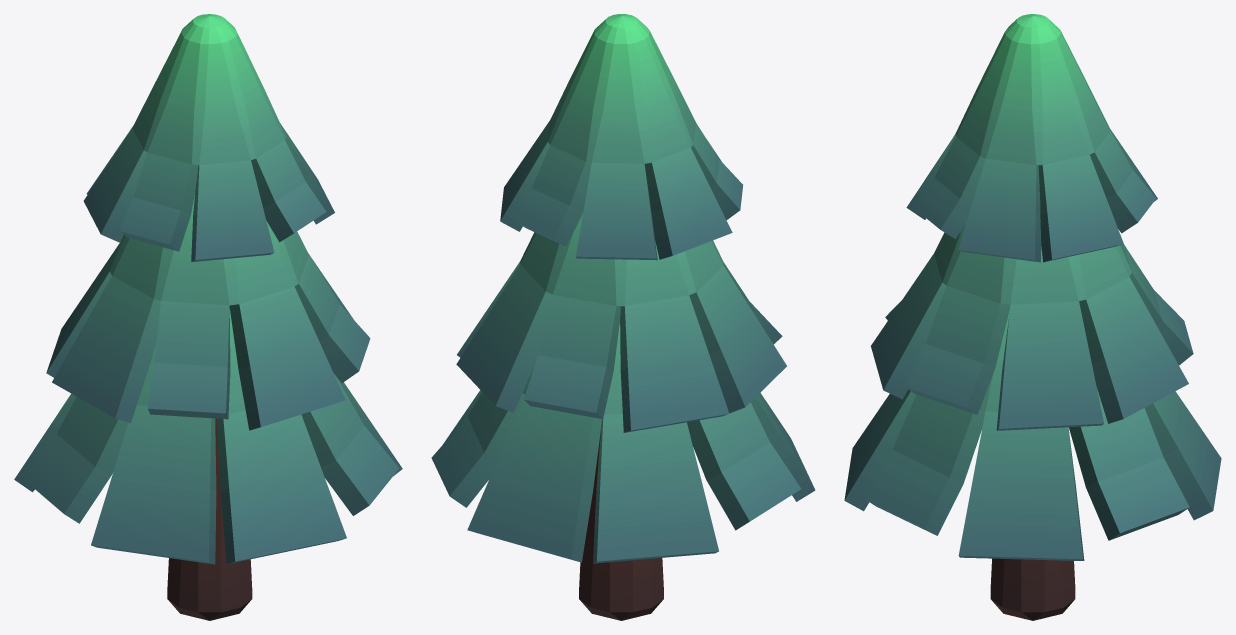
The model's file is kuusi2.fbx.
3 renders of one model, left to right at view 1: azimuth 30°, elevation 25°; view 2: azimuth 150°, elevation 25°; view 3: azimuth 270°, elevation 25°, orthographic.
Parts seen in each view (by area): view 1: Cylinder.005; view 2: Cylinder.005; view 3: Cylinder.005.
Part boxes in pixels (x1,y1,x2,y2): Cylinder.005: (14,14,402,620); Cylinder.005: (431,14,815,620); Cylinder.005: (844,14,1221,620).
Bounding box in the file's own units: 1.17 × 2.03 × 1.17.
